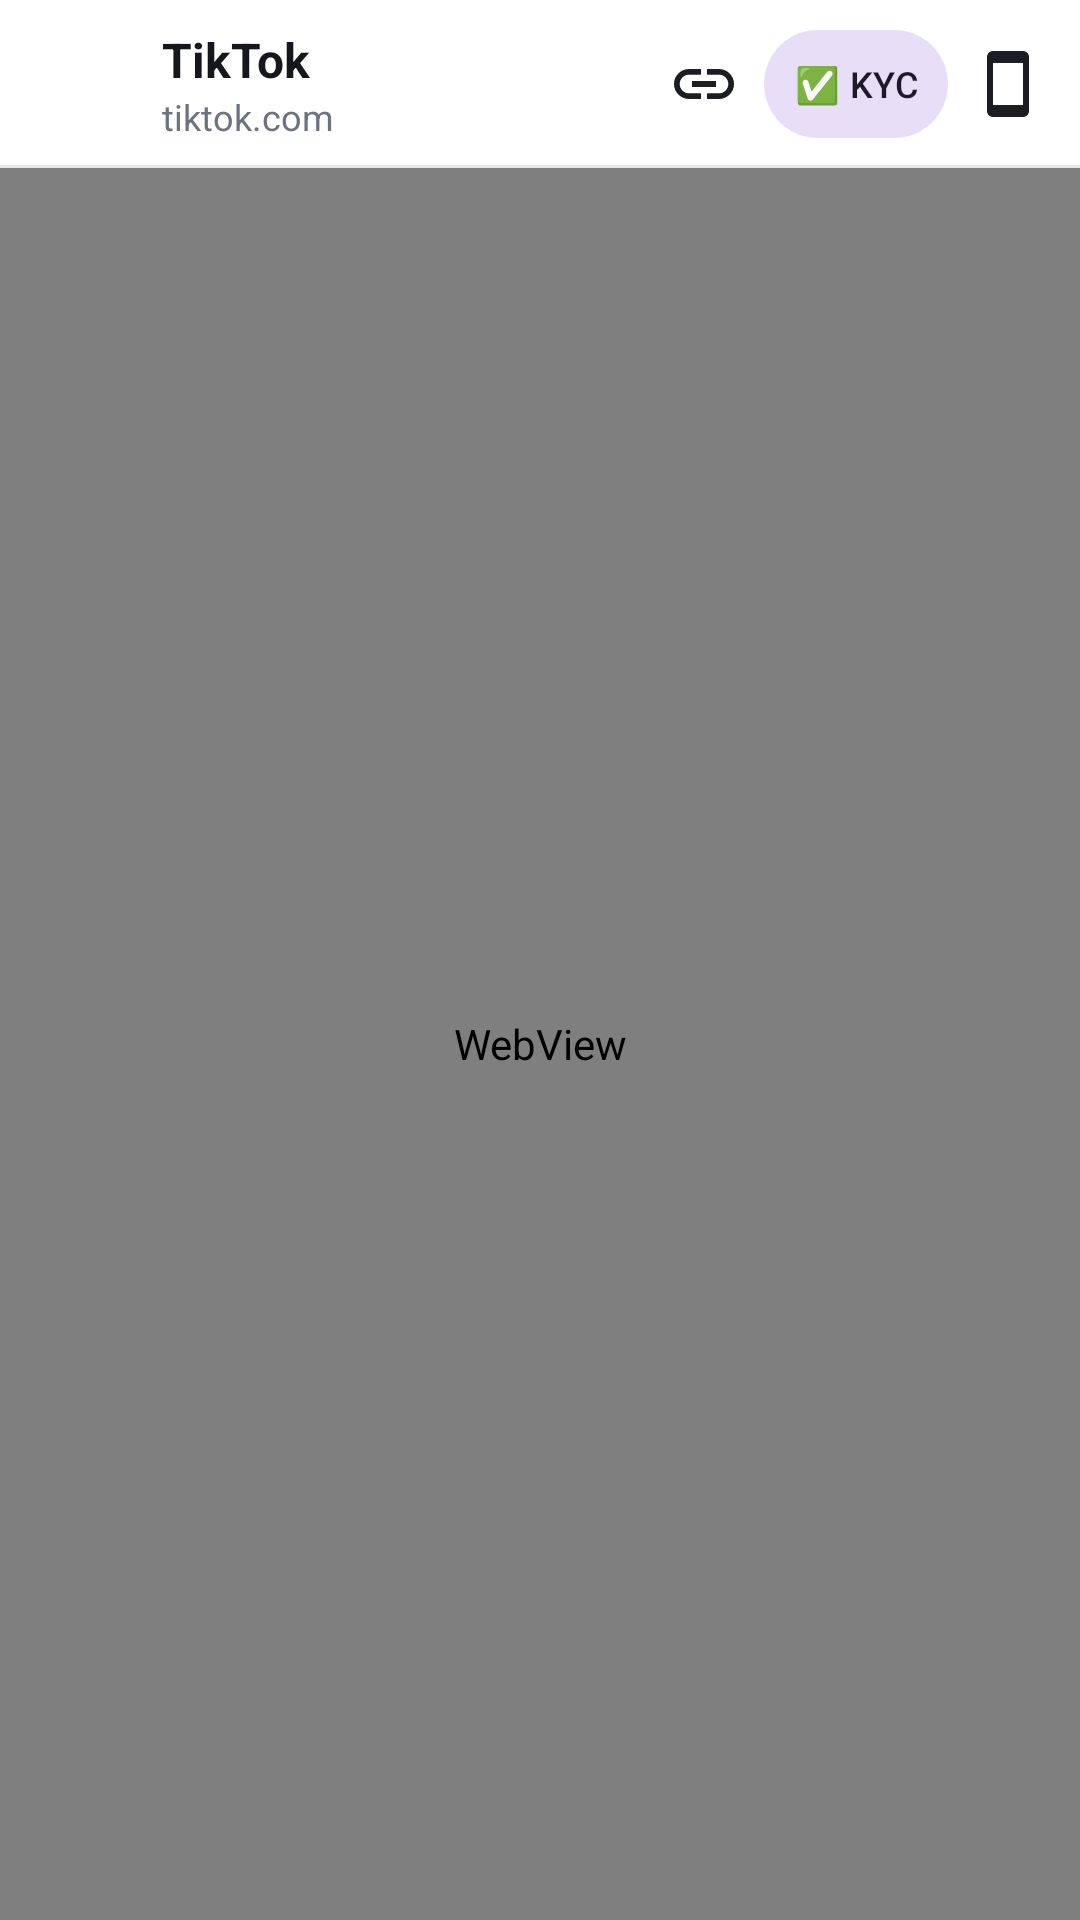

Locate icon controls on the screen. Image size 1080x1920, boxes as {"left": x1, "top": y1, "right": x2, "bottom": y2}.
Mobile / Desktop view: {"left": 987, "top": 51, "right": 1029, "bottom": 117}
Quick links: {"left": 674, "top": 69, "right": 734, "bottom": 99}
